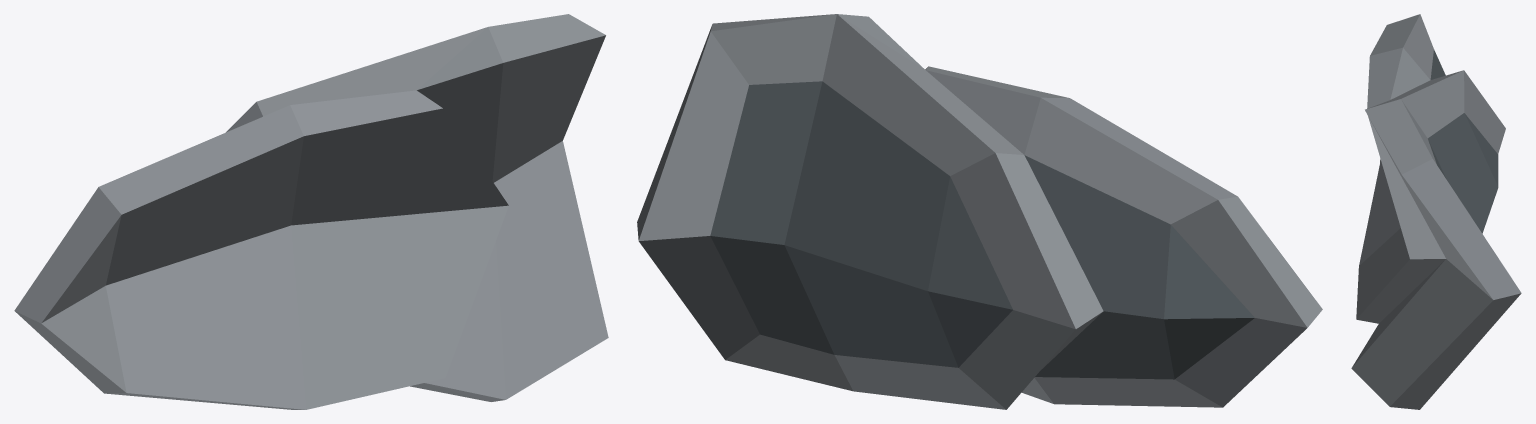
File: Chr_ElbowAttachRight_03_Static.fbx
The picture shows the model from 3 angles, left to right: view 1: azimuth 30°, elevation 25°; view 2: azimuth 150°, elevation 25°; view 3: azimuth 270°, elevation 25°; orthographic projection. The views are drawn at different scales.
Visible parts, largest first — view 1: Chr_ElbowAttachRight_03_Static; view 2: Chr_ElbowAttachRight_03_Static; view 3: Chr_ElbowAttachRight_03_Static.
Part boxes in pixels (<box>): Chr_ElbowAttachRight_03_Static: <box>14,14,608,409</box>; Chr_ElbowAttachRight_03_Static: <box>637,14,1322,409</box>; Chr_ElbowAttachRight_03_Static: <box>1351,14,1521,409</box>.
Size of the model in its own units: 0.2164 by 0.1274 by 0.0677.
